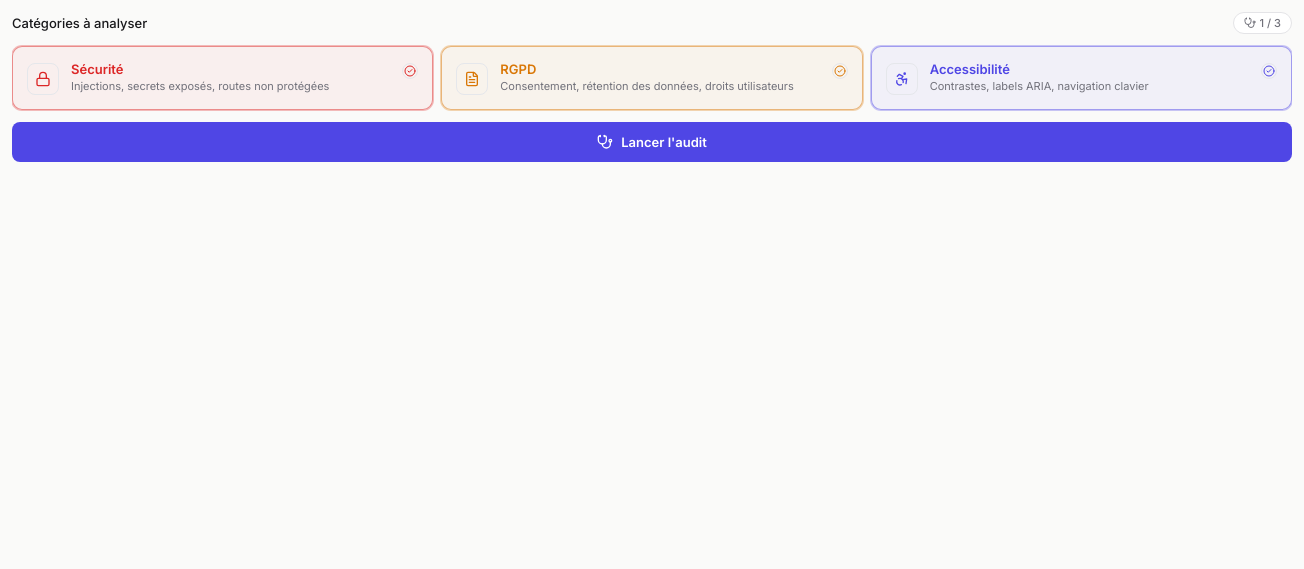
Scenario: AuditPanel — lancement et polling › affiche le rapport quand le statut passe à ready
Click the button "Lancer l'audit" at (652, 142), box [12,122,1292,162]
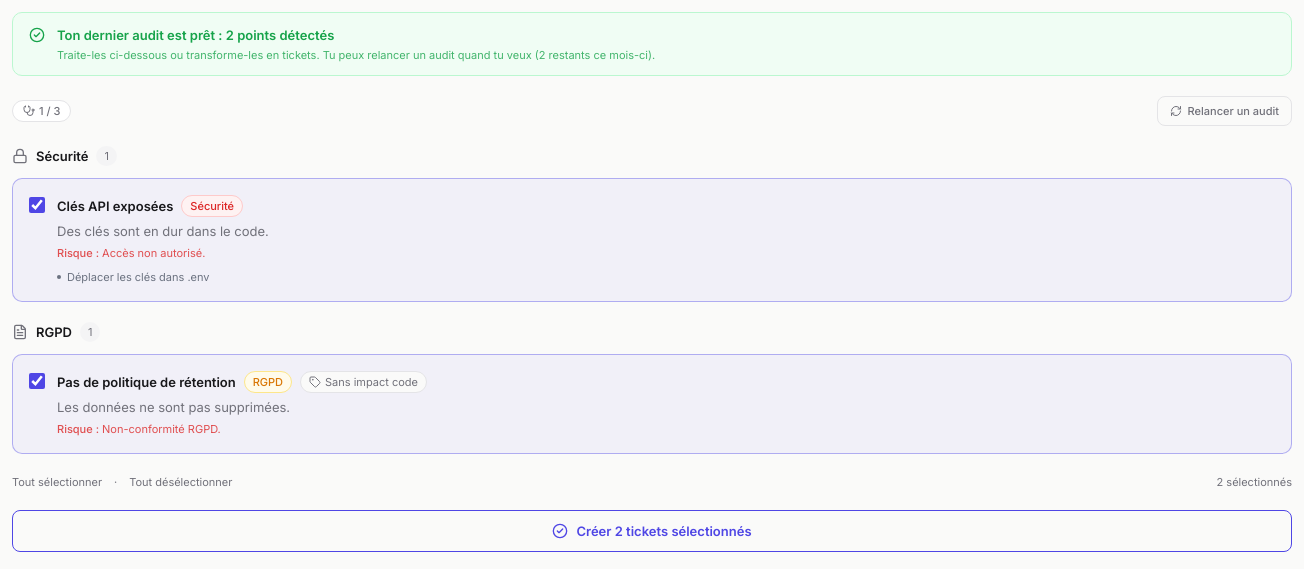
Now the text "Clés API exposées" is shown, box [57,196,173,216]
Now the text "Pas de politique de rétention" is shown, box [57,372,236,392]
